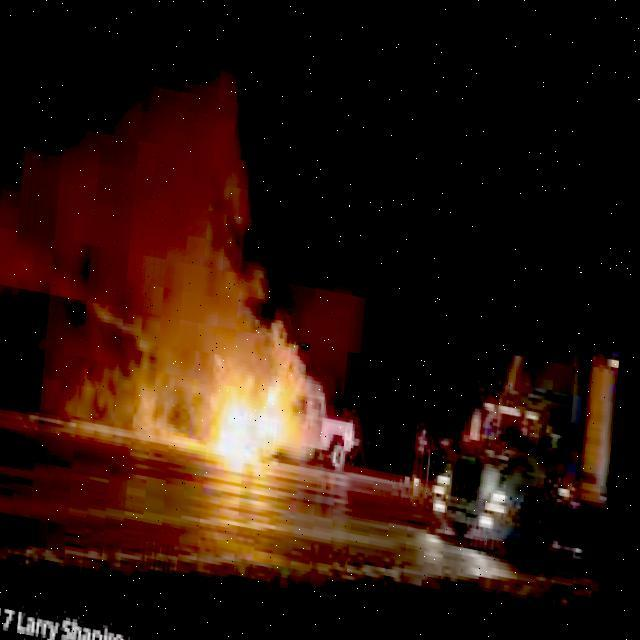Fire: (194, 318, 334, 467)
